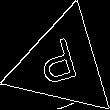P_S: (38, 35, 87, 94)
